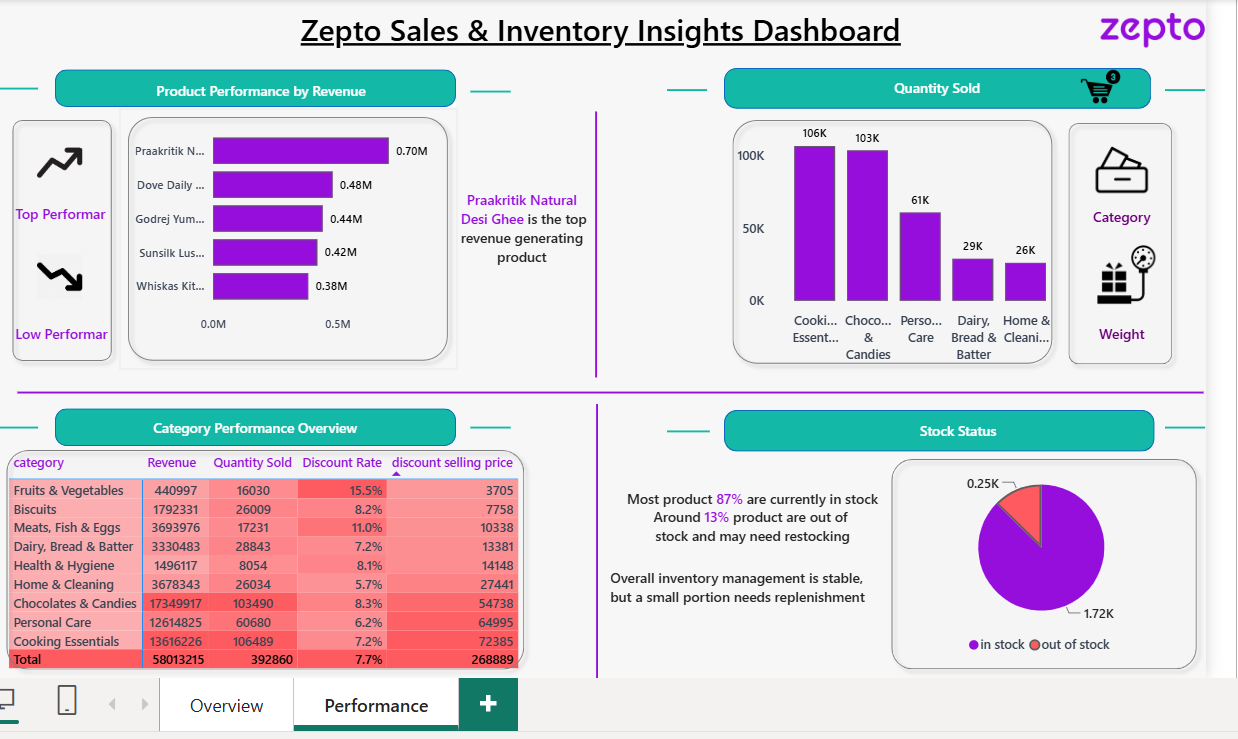

The dashboard page shown, as its layout file describes it:
{"tool":"powerbi","page":{"name":"Performance","canvas":[1280,720],"ordinal":1},"visuals":[{"type":"shape","box":[938.3,479.1,341.6,240.9],"z":0},{"type":"shape","box":[769.6,73.7,453,43.1],"z":1000,"group":"g1"},{"type":"shape","box":[60.9,75.1,425.2,39.7],"z":1000,"group":"g6"},{"type":"shape","box":[5.7,119.1,123.3,273.5],"z":1000},{"type":"shape","box":[769.6,435.1,456.5,43.9],"z":1000,"group":"g2"},{"type":"shape","box":[769.6,119.1,357.2,276.4],"z":2000},{"type":"shape","box":[129,116.2,357.2,276.4],"z":3000},{"type":"shape","box":[60.9,435.1,425.2,39.7],"z":3000,"group":"g5"},{"type":"textbox","box":[228.2,4.3,823.5,70.9],"z":4000},{"type":"textbox","box":[127,610.9,100.1,62.9],"z":5000},{"type":"image","box":[1169.3,4.3,110.6,56.7],"z":6000},{"type":"shape","box":[710.1,429.4,45.4,58.1],"z":7000},{"type":"textbox","box":[879,78.5,232.6,39.9],"z":8000,"group":"g1"},{"type":"textbox","box":[127.5,82.2,303.3,29.8],"z":8000,"group":"g6"},{"type":"shape","box":[1237.3,425.2,42.5,59.5],"z":8000},{"type":"textbox","box":[902.1,440.8,232.7,34],"z":8000,"group":"g2"},{"type":"pieChart","fields":{"Category":["zepto.stock"],"Y":["CountNonNull(zepto.sku_id)"]},"box":[948.2,487.6,316.1,215.4],"z":9000},{"type":"barChart","title":"total revenue by name top","fields":{"Category":["zepto.name"],"Y":["zepto.total revenue"]},"box":[129,119.1,345.8,242.4],"z":11000},{"type":"textbox","box":[121.8,439.4,303.3,29.8],"z":11000,"group":"g5"},{"type":"shape","box":[501.7,68,42.5,59.5],"z":12000},{"type":"shape","box":[0,65.2,42.5,59.5],"z":13000},{"type":"image","box":[21.3,148.8,89.3,48.2],"z":14000},{"type":"image","box":[21.3,270.7,89.3,48.2],"z":15000},{"type":"textbox","box":[0,209.8,121.9,43.9],"z":16000},{"type":"textbox","box":[5.7,338.7,121.9,43.9],"z":17000},{"type":"group","id":"g1","title":"Group 2","box":[769.6,73.7,453.5,43.9],"z":18000},{"type":"shape","box":[1237.3,66.6,42.5,59.5],"z":19000},{"type":"shape","box":[710.1,66.6,42.5,59.5],"z":20000},{"type":"shape","box":[1126.7,122,128,273.9],"z":21000},{"type":"pivotTable","fields":{"Rows":["zepto.category"],"Values":["zepto.total revenue","zepto.total quantity sold","zepto.avg discount %","zepto.total discount selling price"]},"box":[5.7,476.2,561.3,243.8],"z":22000},{"type":"shape","box":[592.4,119.1,85,282],"z":23000},{"type":"shape","box":[20.8,401.9,1257.7,29.8],"z":24000},{"type":"textbox","box":[1155.1,215.4,73.7,34],"z":25000,"group":"g4"},{"type":"shape","box":[0,425.2,42.5,59.5],"z":25000},{"type":"textbox","box":[1155.1,338.8,73.7,32.6],"z":26000,"group":"g3"},{"type":"shape","box":[501.7,425.2,42.5,59.5],"z":26000},{"type":"group","id":"g2","title":"Group 1","box":[769.6,435.1,456.5,43.9],"z":27000},{"type":"shape","box":[0,469.1,566.9,250.9],"z":28000},{"type":"shape","box":[613.7,429.4,42.5,290.6],"z":29000},{"type":"textbox","box":[656.2,514.5,286.3,96.4],"z":30000},{"type":"textbox","box":[644.9,598.1,293.4,59.5],"z":31000},{"type":"textbox","box":[480.5,197,150.2,92.1],"z":32000},{"type":"columnChart","fields":{"Category":["zepto.category"],"Y":["zepto.total quantity sold"]},"box":[778.4,117.6,362,273.9],"z":34000},{"type":"image","box":[1131,73.7,76.5,39.7],"z":35000},{"type":"group","id":"g3","title":"Group 4","box":[1155.1,260.8,83.6,110.6],"z":36000},{"type":"group","id":"g4","title":"Group 3","box":[1155.1,153.3,73.7,96.1],"z":37000},{"type":"group","id":"g5","title":"Group 6","box":[60.9,75.1,425.2,399.7],"z":38000},{"type":"image","box":[1155.1,260.8,83.6,62.4],"z":40500,"group":"g3"},{"type":"image","box":[1162.4,153.3,58,56.6],"z":42000,"group":"g4"},{"type":"group","id":"g6","title":"Group 5","box":[60.9,75.1,425.2,39.7],"z":42002,"group":"g5"}]}

Visuals, with their boxes on the page's 1280x720 design canvas (x1, y1, x2, y2). These are canvas units, not pixel positions in the 1238x739 screenshot, which may show the page scaled, cropped or inside an application window:
shape: crop(938, 479, 1280, 720)
shape: crop(770, 74, 1223, 117)
shape: crop(61, 75, 486, 115)
shape: crop(6, 119, 129, 393)
shape: crop(770, 435, 1226, 479)
shape: crop(770, 119, 1127, 396)
shape: crop(129, 116, 486, 393)
shape: crop(61, 435, 486, 475)
textbox: crop(228, 4, 1052, 75)
textbox: crop(127, 611, 227, 674)
image: crop(1169, 4, 1280, 61)
shape: crop(710, 429, 756, 488)
textbox: crop(879, 78, 1112, 118)
textbox: crop(128, 82, 431, 112)
shape: crop(1237, 425, 1280, 485)
textbox: crop(902, 441, 1135, 475)
pieChart - zepto.stock x CountNonNull(zepto.sku_id): crop(948, 488, 1264, 703)
"total revenue by name top" barChart: crop(129, 119, 475, 362)
textbox: crop(122, 439, 425, 469)
shape: crop(502, 68, 544, 128)
shape: crop(0, 65, 42, 125)
image: crop(21, 149, 111, 197)
image: crop(21, 271, 111, 319)
textbox: crop(0, 210, 122, 254)
textbox: crop(6, 339, 128, 383)
"Group 2" group: crop(770, 74, 1223, 118)
shape: crop(1237, 67, 1280, 126)
shape: crop(710, 67, 753, 126)
shape: crop(1127, 122, 1255, 396)
pivotTable - zepto.category x zepto.total revenue: crop(6, 476, 567, 720)
shape: crop(592, 119, 677, 401)
shape: crop(21, 402, 1278, 432)
textbox: crop(1155, 215, 1229, 249)
shape: crop(0, 425, 42, 485)
textbox: crop(1155, 339, 1229, 371)
shape: crop(502, 425, 544, 485)
"Group 1" group: crop(770, 435, 1226, 479)
shape: crop(0, 469, 567, 720)
shape: crop(614, 429, 656, 720)
textbox: crop(656, 514, 942, 611)
textbox: crop(645, 598, 938, 658)
textbox: crop(480, 197, 631, 289)
columnChart - zepto.category x zepto.total quantity sold: crop(778, 118, 1140, 392)
image: crop(1131, 74, 1208, 113)
"Group 4" group: crop(1155, 261, 1239, 371)
"Group 3" group: crop(1155, 153, 1229, 249)
"Group 6" group: crop(61, 75, 486, 475)
image: crop(1155, 261, 1239, 323)
image: crop(1162, 153, 1220, 210)
"Group 5" group: crop(61, 75, 486, 115)
